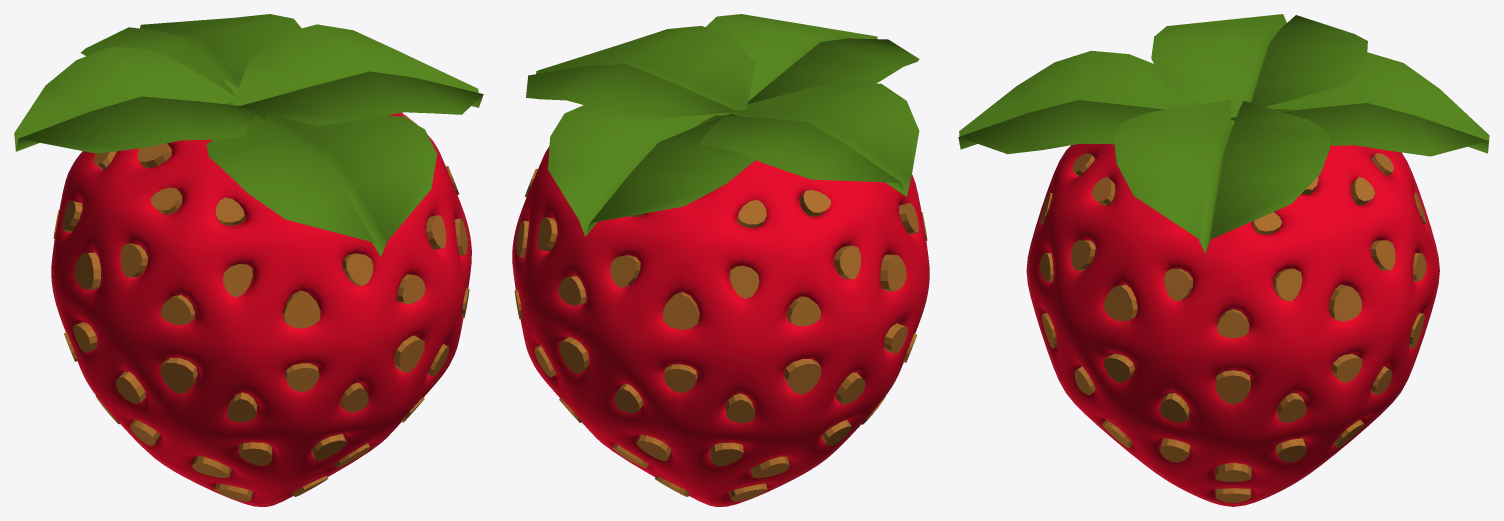
3 views of the same model, side by side, from view 1: azimuth 30°, elevation 25°; view 2: azimuth 150°, elevation 25°; view 3: azimuth 270°, elevation 25° (orthographic). The views are drawn at different scales.
Visible parts, largest first — view 1: 棱角球, 棱角球.002, 平面.001, 棱角球.001, 平面.002, 平面.003, 平面.004; view 2: 棱角球, 棱角球.002, 棱角球.001, 平面.004, 平面.002, 平面.003, 平面.001; view 3: 棱角球, 棱角球.002, 平面.003, 棱角球.001, 平面.002, 平面.001, 平面.004.
Part boxes in pixels (x1=…): 棱角球: x1=51, y1=112, x2=471, y2=506; 棱角球.002: x1=54, y1=114, x2=468, y2=502; 平面.001: x1=206, y1=113, x2=437, y2=256; 棱角球.001: x1=53, y1=115, x2=469, y2=501; 平面.002: x1=14, y1=47, x2=267, y2=153; 平面.003: x1=233, y1=24, x2=483, y2=125; 平面.004: x1=80, y1=14, x2=301, y2=104; 棱角球: x1=512, y1=146, x2=929, y2=506; 棱角球.002: x1=515, y1=153, x2=926, y2=502; 棱角球.001: x1=514, y1=168, x2=927, y2=501; 平面.004: x1=548, y1=105, x2=755, y2=236; 平面.002: x1=696, y1=81, x2=919, y2=196; 平面.003: x1=526, y1=25, x2=755, y2=118; 平面.001: x1=705, y1=14, x2=919, y2=104; 棱角球: x1=1026, y1=144, x2=1439, y2=506; 棱角球.002: x1=1030, y1=144, x2=1436, y2=503; 平面.003: x1=1114, y1=100, x2=1329, y2=252; 棱角球.001: x1=1040, y1=153, x2=1426, y2=502; 平面.002: x1=1151, y1=14, x2=1367, y2=125; 平面.001: x1=958, y1=50, x2=1202, y2=154; 平面.004: x1=1231, y1=52, x2=1489, y2=156.
Size of the model in its own units: 2.21 by 2.13 by 2.48.
